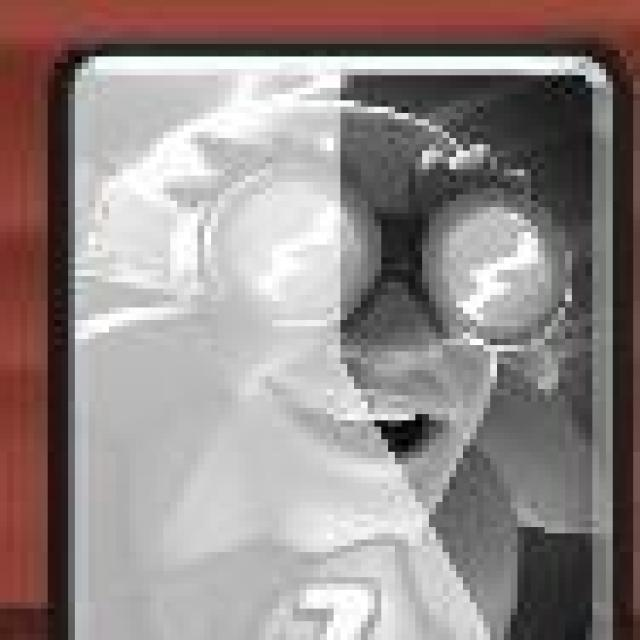Electro_Giant: (45, 42, 628, 640)
